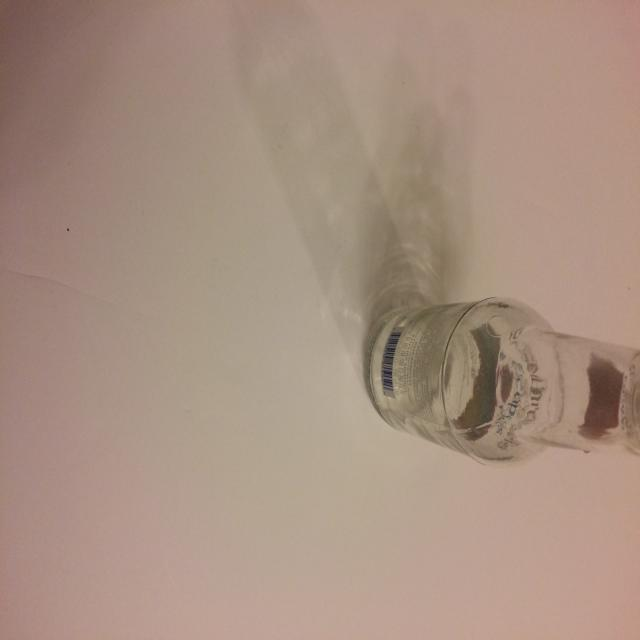glass: (236, 7, 639, 467)
